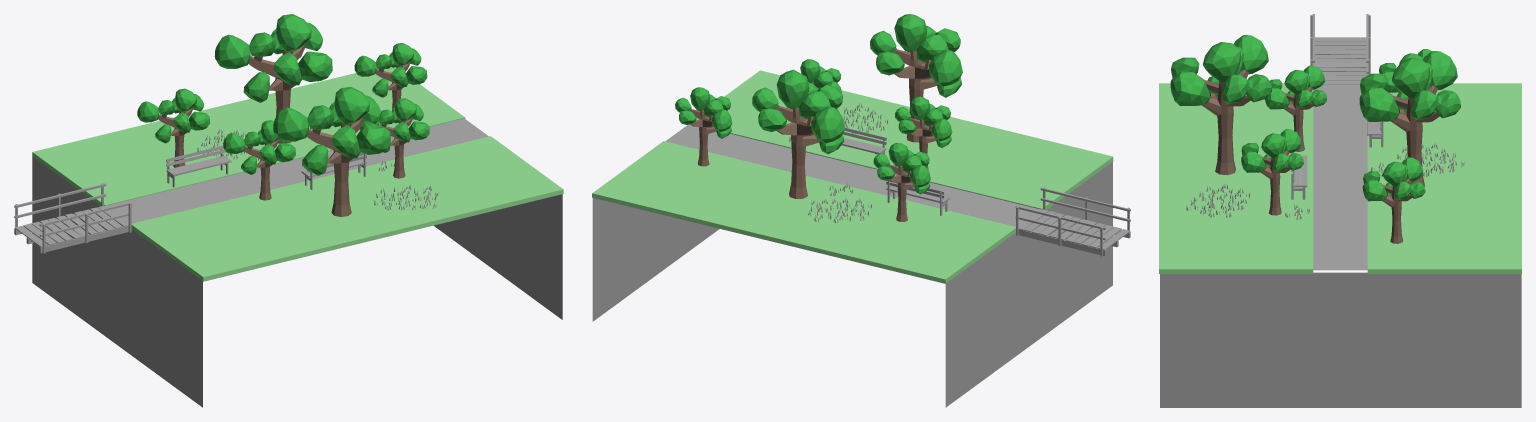
Rendered from Park.fbx.
3 renders of one model, left to right at view 1: azimuth 30°, elevation 25°; view 2: azimuth 150°, elevation 25°; view 3: azimuth 270°, elevation 25°, orthographic. The views are drawn at different scales.
Parts seen in each view (by area): view 1: polySurface78, pPlane3, polySurface77, pPlane4, polySurface65, pPlane2, polySurface63, BRIDGE_LOW:barabde1, polySurface66, polySurface67, polySurface64, polySurface52 (+2 smaller); view 2: polySurface77, pPlane3, polySurface78, pPlane4, pPlane2, polySurface63, polySurface65, BRIDGE_LOW:barabde1, polySurface66, polySurface67, polySurface64, polySurface52 (+3 smaller); view 3: pPlane4, polySurface77, polySurface78, pPlane2, polySurface65, polySurface63, BRIDGE_LOW:barabde1, polySurface67, polySurface52, polySurface64, polySurface74, polySurface66 (+3 smaller).
Boxes of the visible parts, x1,y1,x2,y2 form: polySurface78: (131, 136, 563, 281); pPlane3: (32, 157, 202, 407); polySurface77: (32, 67, 465, 206); pPlane4: (434, 194, 562, 319); polySurface65: (273, 87, 390, 216); pPlane2: (106, 118, 488, 223); polySurface63: (214, 14, 332, 143); BRIDGE_LOW:barabde1: (14, 183, 131, 253); polySurface66: (137, 88, 209, 167); polySurface67: (354, 43, 427, 123); polySurface64: (223, 120, 295, 200); polySurface52: (359, 98, 429, 178); polySurface77: (592, 141, 1015, 283); pPlane3: (945, 161, 1112, 407); polySurface78: (696, 70, 1113, 209); pPlane4: (592, 198, 719, 321); pPlane2: (665, 124, 1040, 226); polySurface63: (752, 70, 844, 198); polySurface65: (870, 14, 962, 142); BRIDGE_LOW:barabde1: (1015, 187, 1130, 256); polySurface66: (873, 142, 930, 221); polySurface67: (675, 87, 732, 166); polySurface64: (895, 96, 952, 169); polySurface52: (790, 59, 842, 94); pPlane4: (1160, 272, 1521, 407); polySurface77: (1367, 83, 1521, 273); polySurface78: (1159, 83, 1313, 273); pPlane2: (1313, 84, 1367, 270); polySurface65: (1170, 35, 1271, 175); polySurface63: (1359, 51, 1460, 186); BRIDGE_LOW:barabde1: (1310, 14, 1370, 84); polySurface67: (1362, 157, 1425, 243); polySurface52: (1241, 129, 1303, 215); polySurface64: (1265, 65, 1326, 151); polySurface74: (1186, 183, 1250, 217); polySurface66: (1379, 49, 1431, 92).
Bounding box in the file's own units: 95.17 × 51.48 × 62.67.
